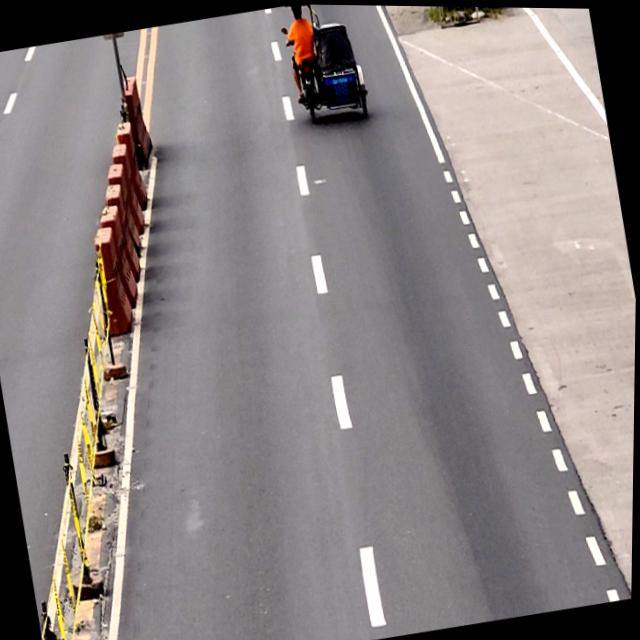Tricycle: (275, 3, 373, 129)
